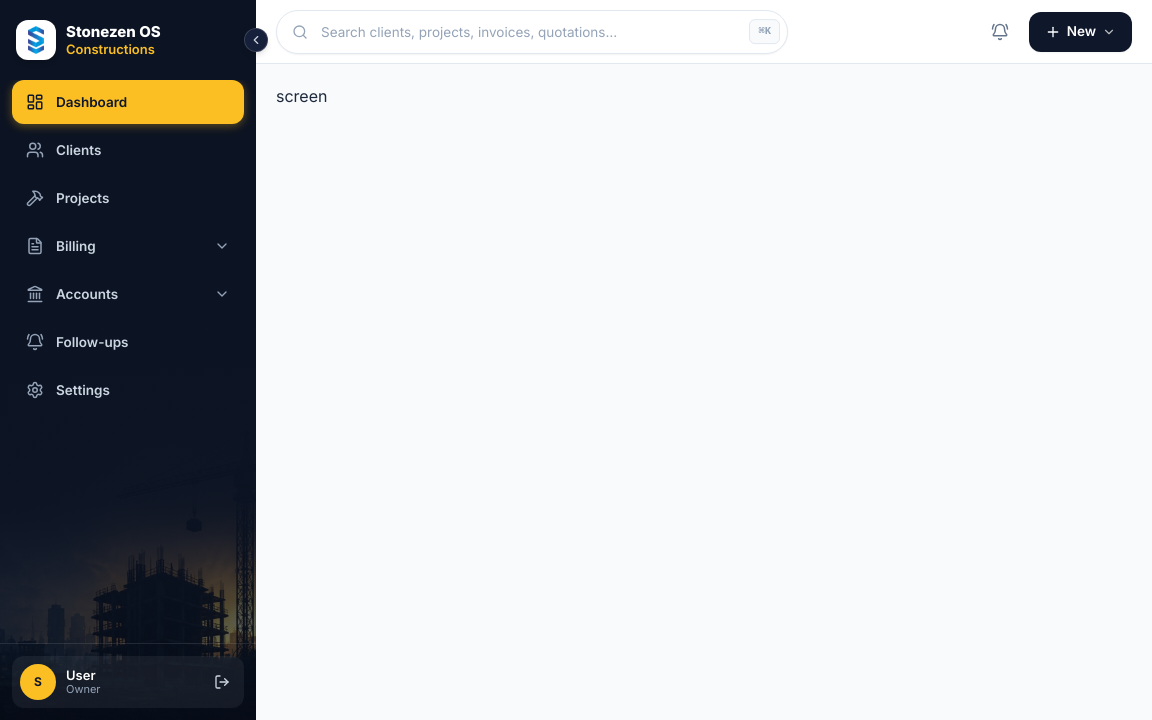
it: collapsing the sidebar › collapses and expands from the chevron
Click the button named "collapse sidebar" at (256, 40), box left=244, top=28, right=268, bottom=52
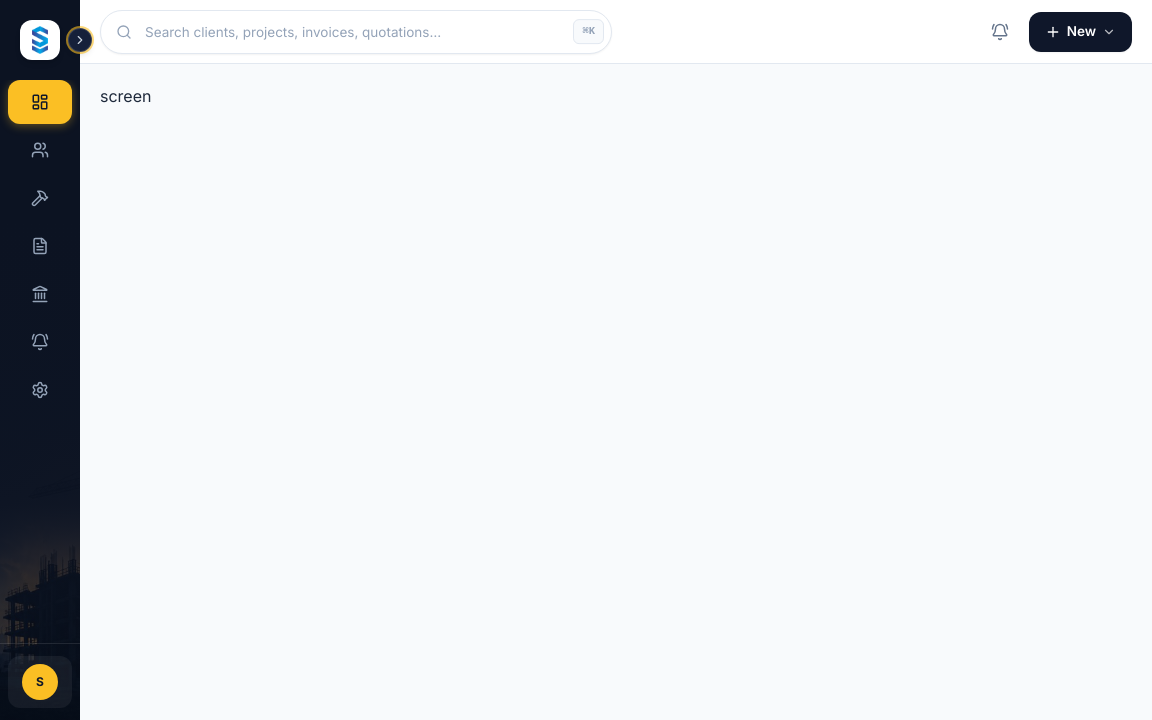
Expected: the button named "expand sidebar" is shown
Click the button named "expand sidebar" at (80, 40), box left=68, top=28, right=92, bottom=52
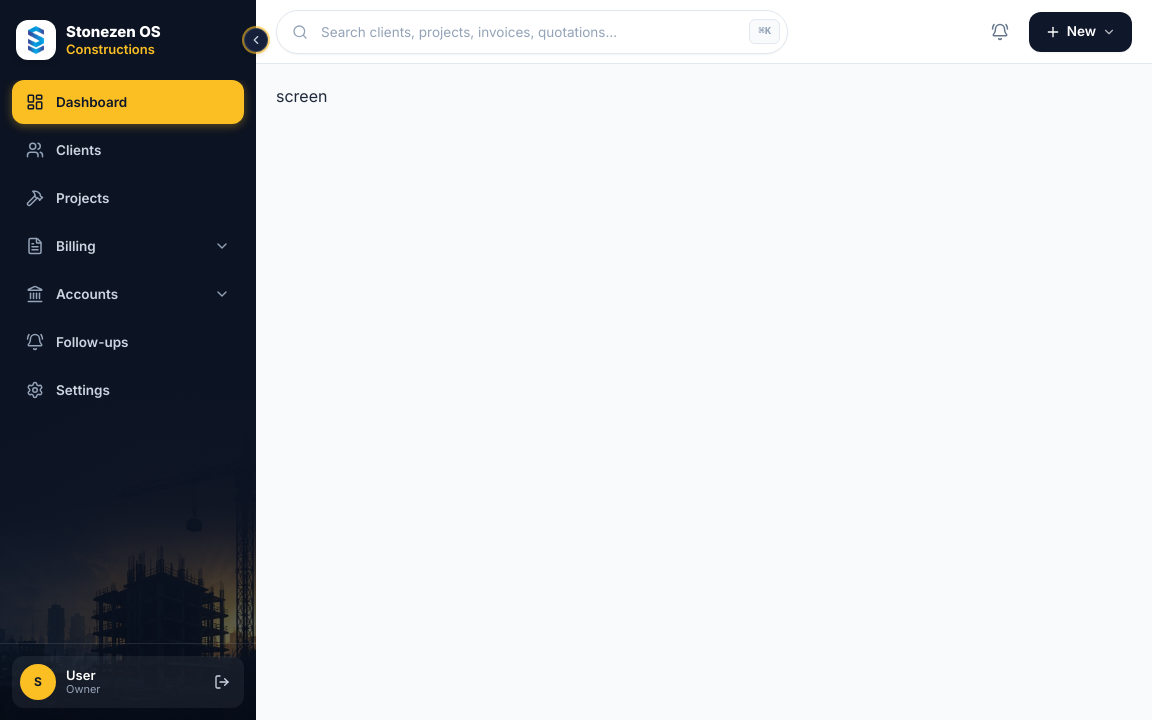
Expected: the button named "collapse sidebar" is shown, left=244, top=28, right=268, bottom=52
